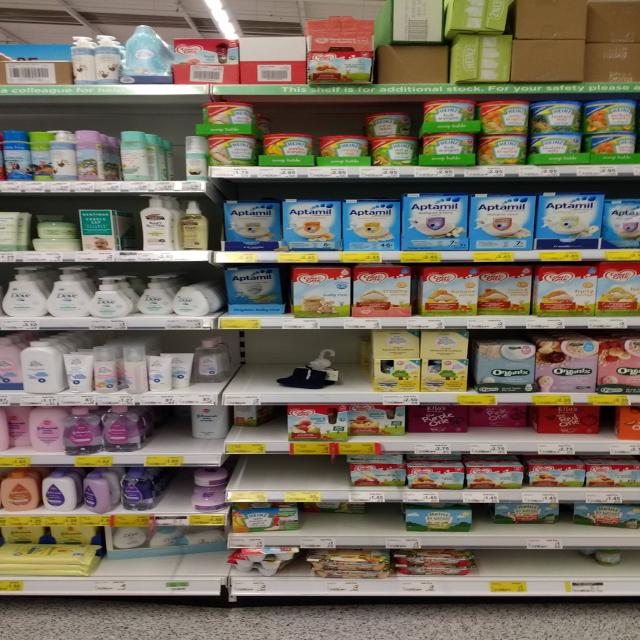empty: (232, 453, 345, 493), (478, 544, 575, 580), (227, 334, 277, 398), (141, 403, 191, 457), (367, 497, 407, 542)
